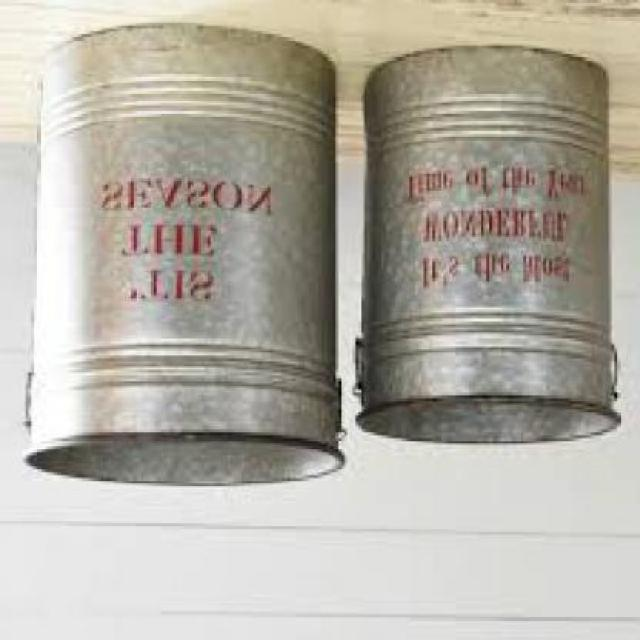METAL: (23, 31, 342, 489), (352, 56, 617, 447)
